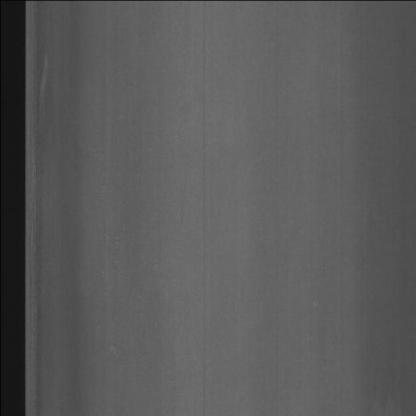silk_spot: (26, 54, 46, 336)
